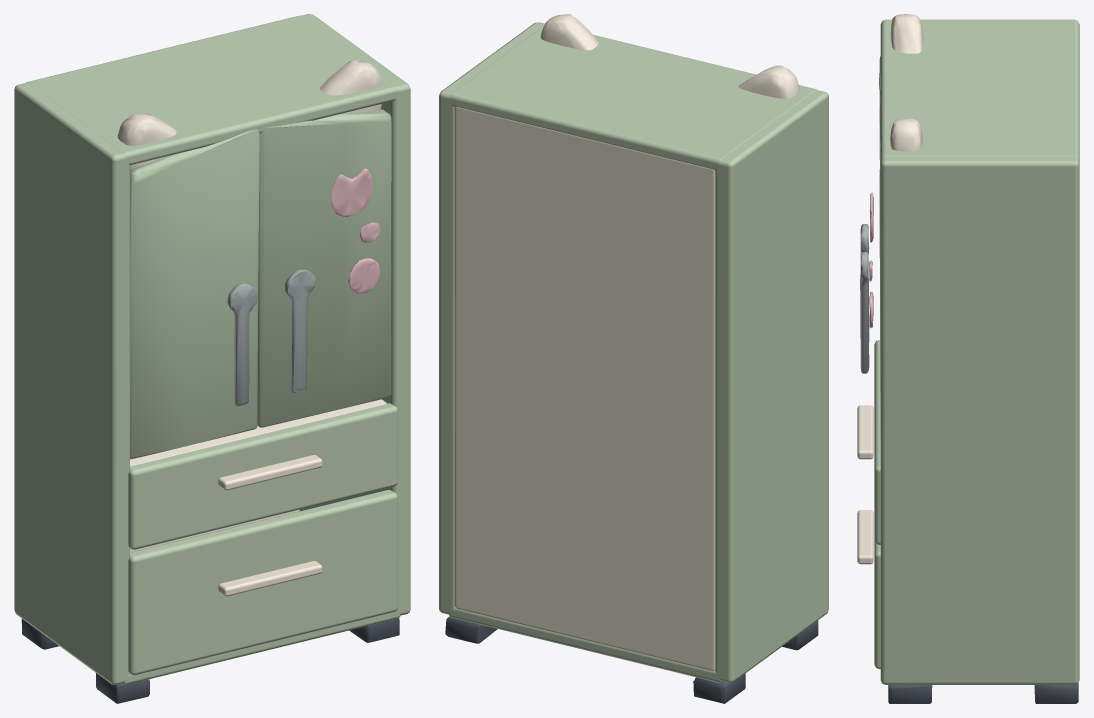
File: kitchen_fridge.glb
3 views of the same model, side by side, from view 1: azimuth 30°, elevation 25°; view 2: azimuth 150°, elevation 25°; view 3: azimuth 270°, elevation 25° (orthographic).
Visible parts, largest first — view 1: object 2, fridge-right, fridge-left, object 1, object 4, object 3; view 2: object 4, object 2, object 1, object 3; view 3: object 2, object 1, fridge-right, object 3, fridge-left.
Part boxes in pixels (x1,y1,x2,y2): object 2: (14, 14, 410, 684); fridge-right: (257, 109, 391, 427); fridge-left: (130, 129, 259, 459); object 1: (117, 60, 381, 596); object 4: (130, 399, 386, 552); object 3: (21, 618, 399, 703); object 4: (454, 107, 715, 670); object 2: (439, 22, 828, 682); object 1: (540, 14, 799, 99); object 3: (445, 616, 818, 703); object 2: (874, 19, 1079, 684); object 1: (857, 14, 923, 564); fridge-right: (860, 98, 880, 438); object 3: (888, 683, 1078, 703); fridge-left: (860, 56, 880, 342).
Bounding box in the file's own units: 1.42 × 2.6 × 0.9216.
